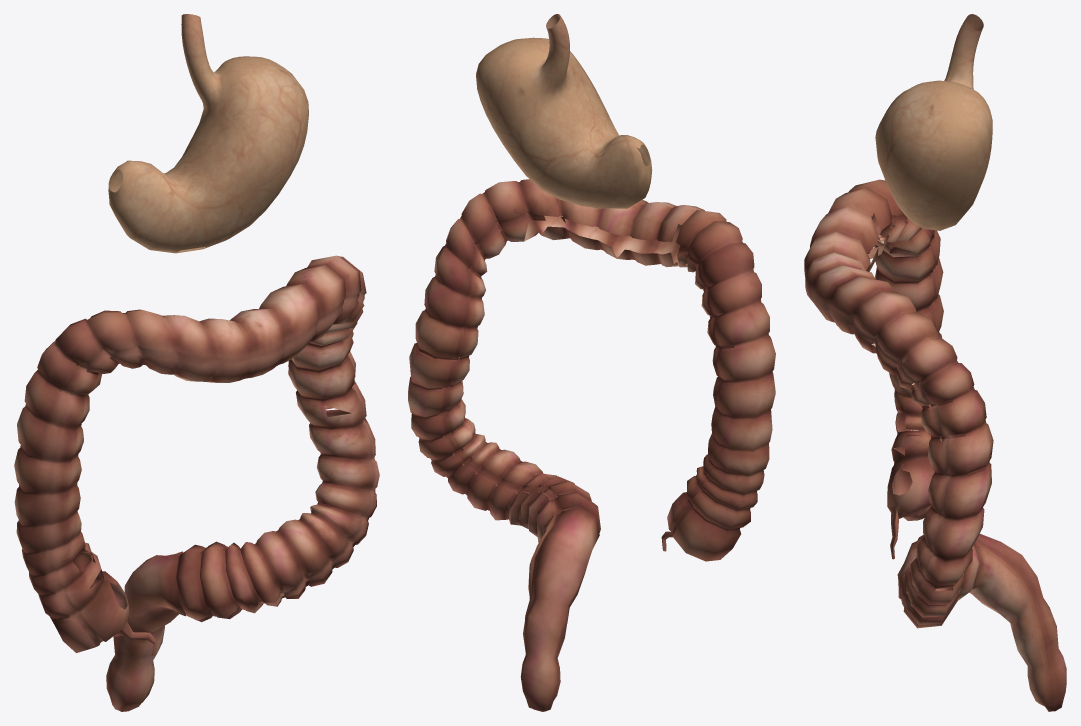
Rendered from NewWeiChang.obj.
3 renders of one model, left to right at view 1: azimuth 30°, elevation 25°; view 2: azimuth 150°, elevation 25°; view 3: azimuth 270°, elevation 25°, orthographic. The views are drawn at different scales.
Visible parts, largest first — view 1: 大肠, 胃; view 2: 大肠, 胃; view 3: 大肠, 胃.
Boxes of the visible parts, x1,y1,x2,y2 form: 大肠: (14,255,379,711); 胃: (108,14,308,253); 大肠: (408,179,775,711); 胃: (476,14,652,208); 大肠: (804,179,1066,711); 胃: (875,14,992,230).
Size of the model in its own units: 108 by 198 by 66.89.
1 material, 1 textured.
